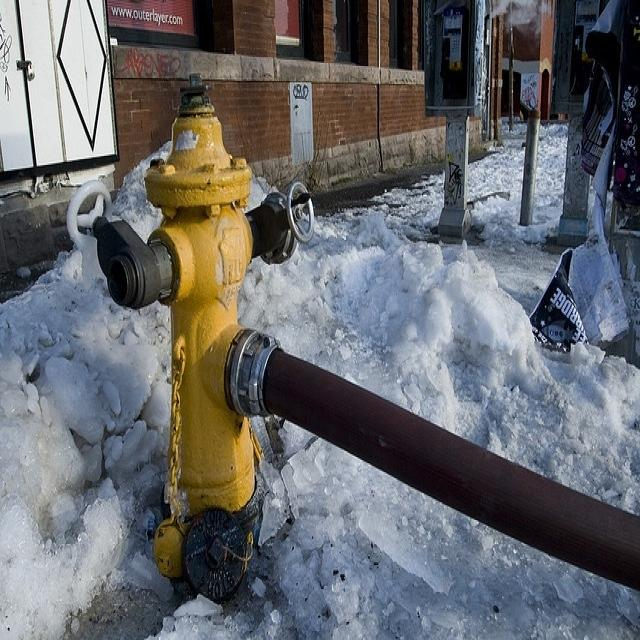fire_hydrant: (95, 49, 313, 616)
